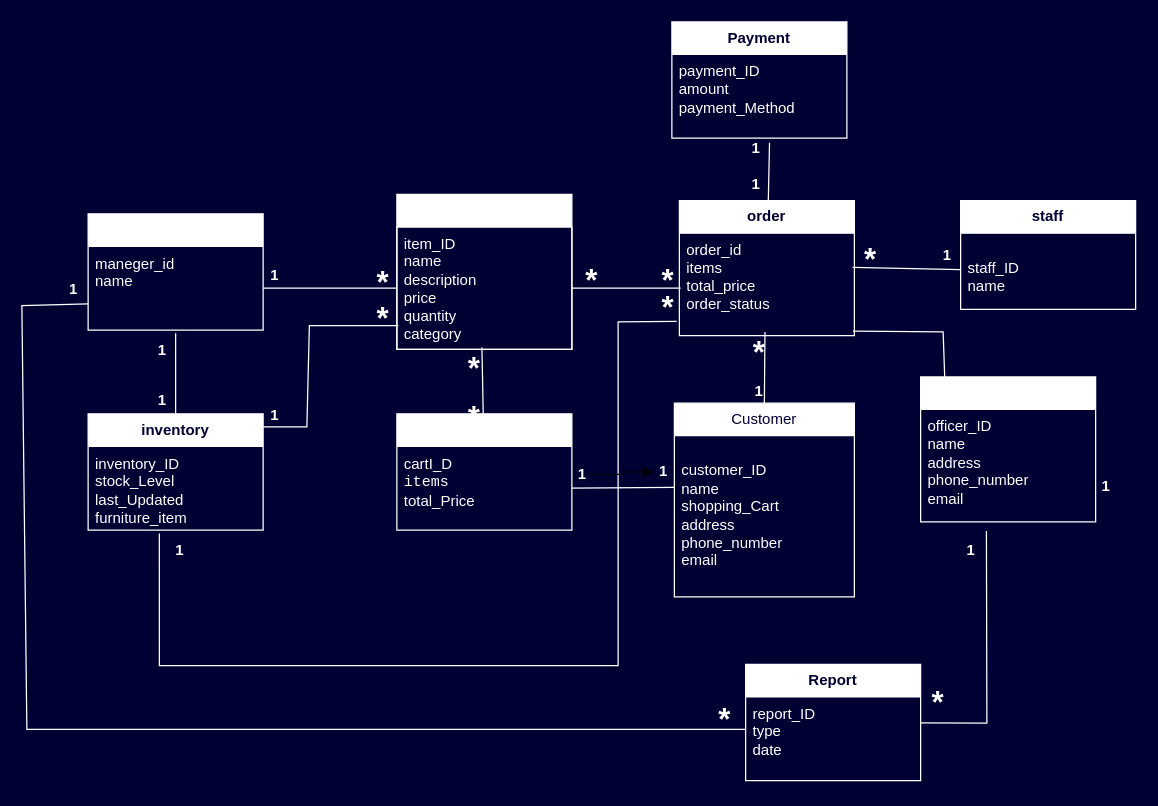
Image size: 1158x806. Some labels were removed from this diagram. Each missing label, with the box of its shape:
FinanceOfficer: (919, 376, 1096, 522)
Furniture: (396, 193, 572, 349)
inventory maneger: (87, 212, 263, 330)
ShoppingCart: (396, 412, 572, 530)
